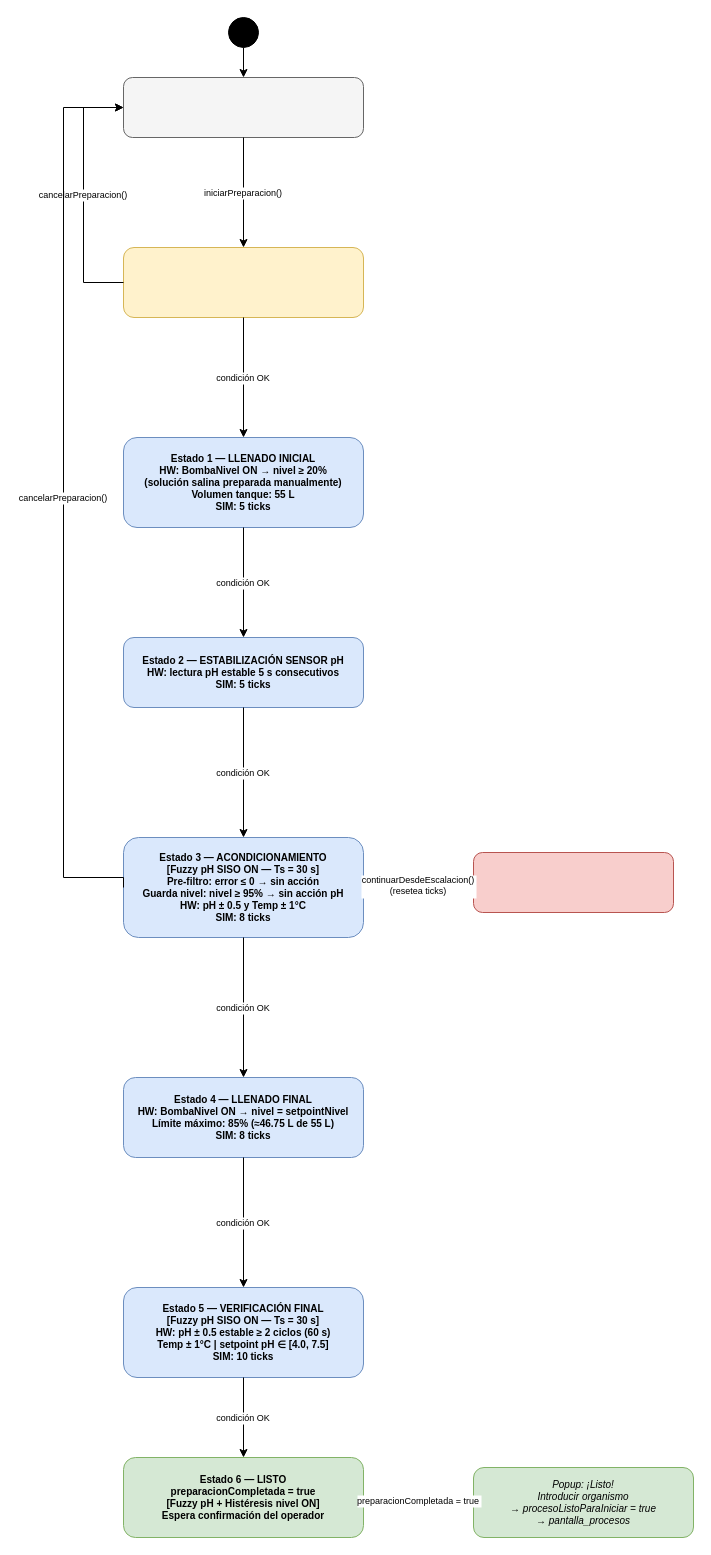
Image size: 711x1555. Some labels were removed from this diagram. The shapes that lost their labels are listed below. From the top down, each one's box as (x1, y1, x2, y2) in pixels, then its label:
(122, 76, 364, 138): Estado -1 INACTIVO
(122, 246, 364, 318): Estado 0 — VERIFICACIÓN HW: sin alertas Serial ni Nivel SIM: 2 ticks
(472, 852, 674, 912): ⚠ Popup Escalación ticks ≥ 120 s → Continuar / Detener
